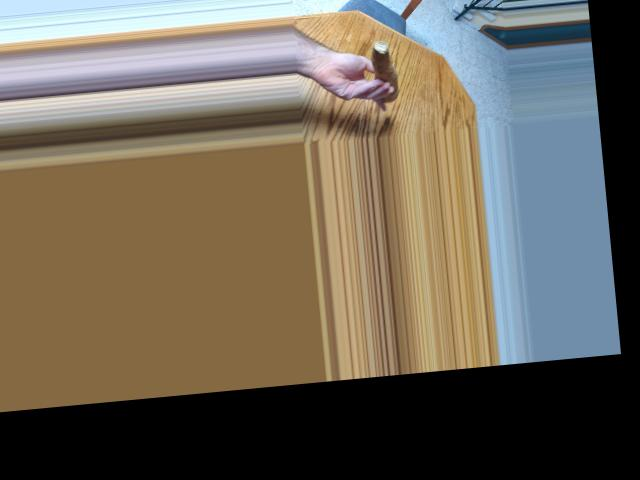sweet_potato: (363, 41, 402, 96)
